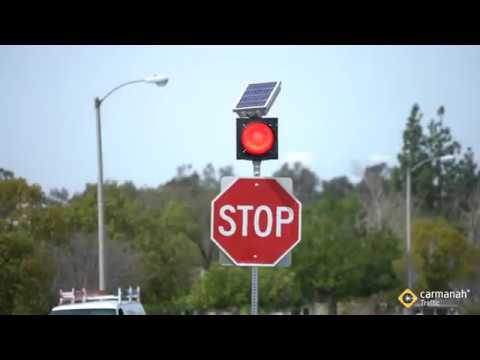STOP: (208, 176, 304, 267)
